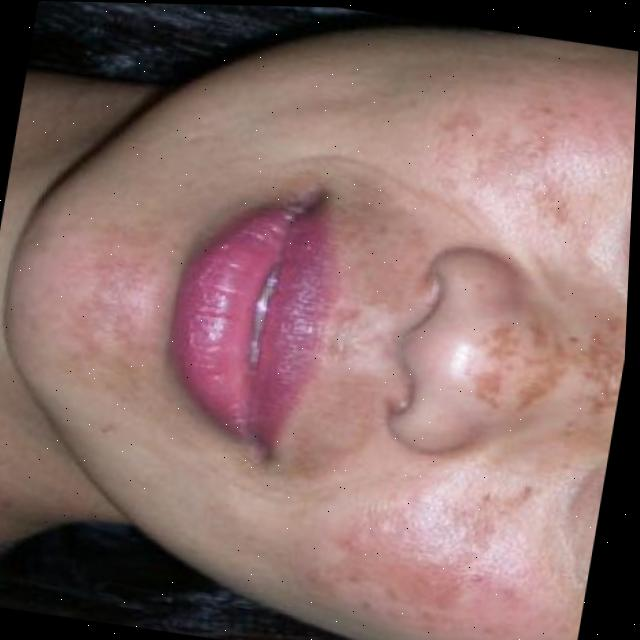Melasma: (315, 445, 508, 619), (469, 328, 626, 414), (470, 130, 585, 233)
